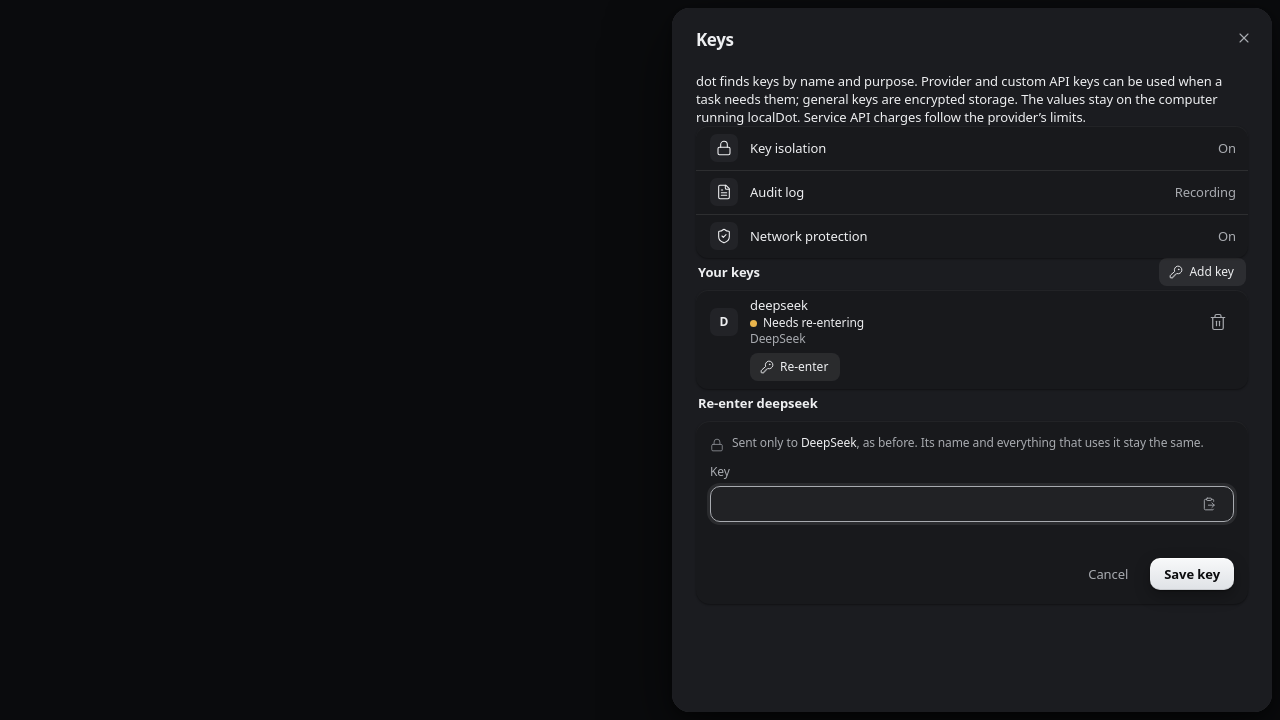
a key to enter again › opens the form for the key a task asked for, and Cancel folds it away
Check: the form named "Re-enter deepseek" shows "Sent only to DeepSeek, as before.", box [710, 435, 1234, 590]
Click the button "Cancel" at (1108, 574), box [1074, 558, 1142, 590]
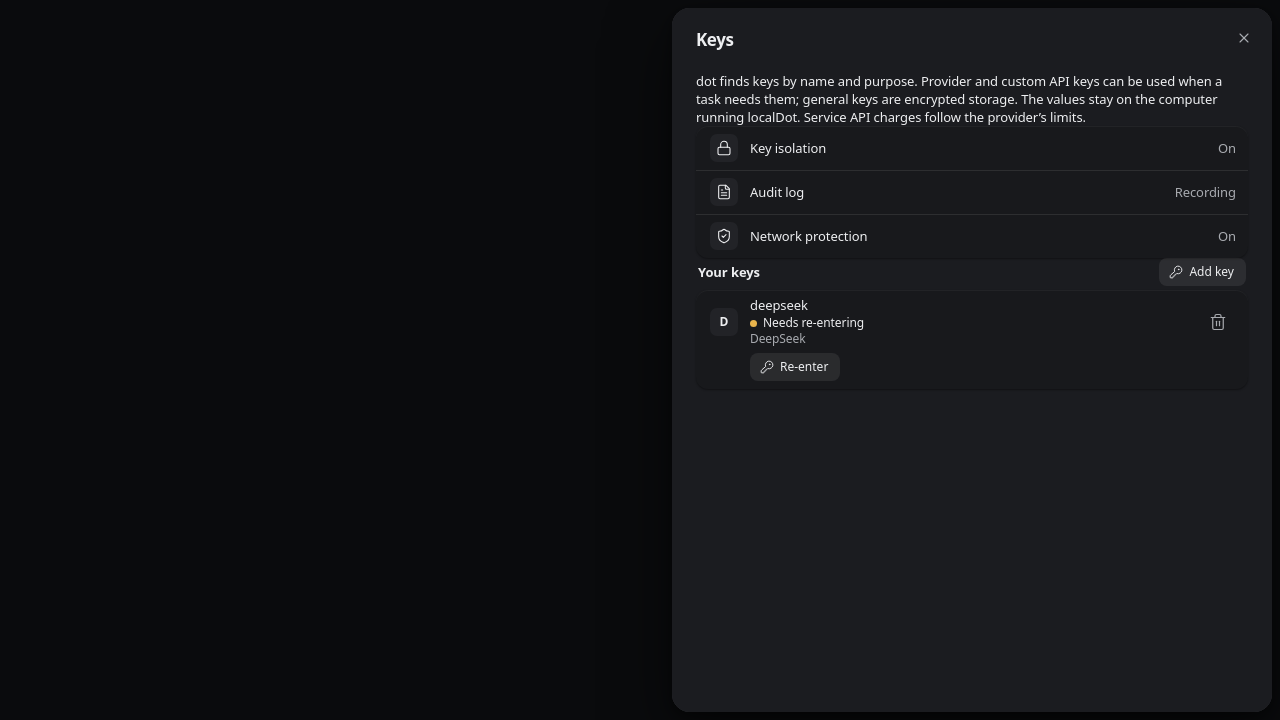
Check: the heading "Re-enter deepseek" is gone
